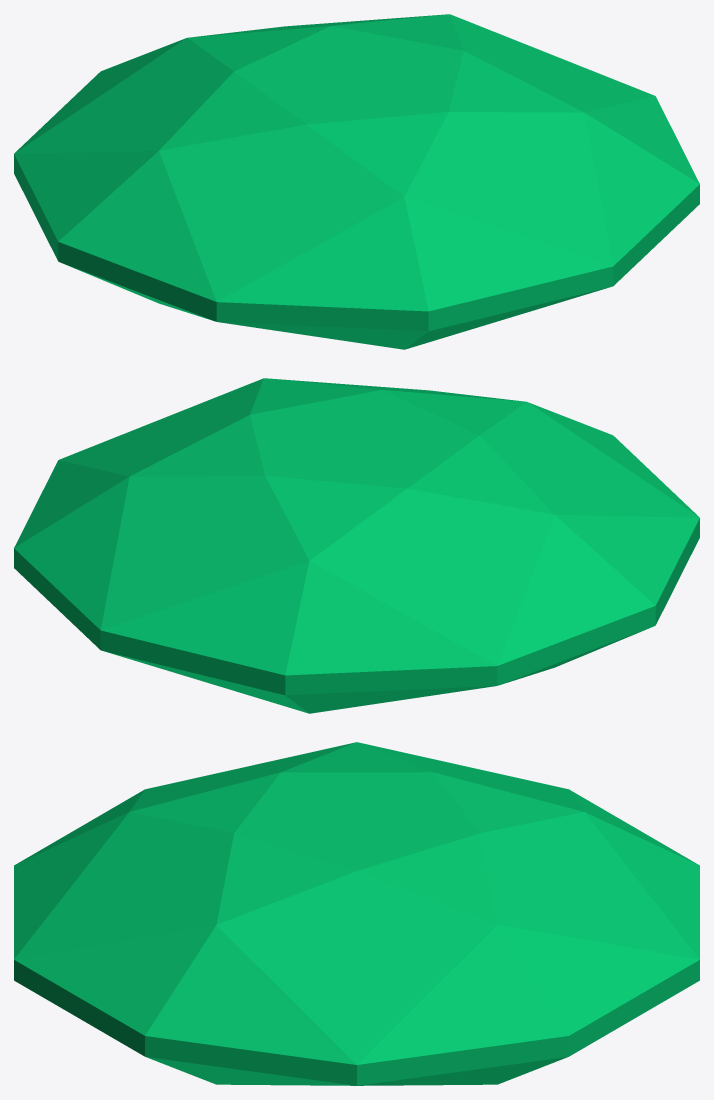
File: Gem_08.glb
3 renders of one model, top to bottom at view 1: azimuth 30°, elevation 25°; view 2: azimuth 150°, elevation 25°; view 3: azimuth 270°, elevation 25°, orthographic. The views are drawn at different scales.
Parts seen in each view (by area): view 1: Gem_08; view 2: Gem_08; view 3: Gem_08.
Boxes of the visible parts, x1,y1,x2,y2 form: Gem_08: (14,14,699,349); Gem_08: (14,378,699,713); Gem_08: (14,742,699,1085).
Bounding box in the file's own units: 0.1011 × 0.033 × 0.0962.
